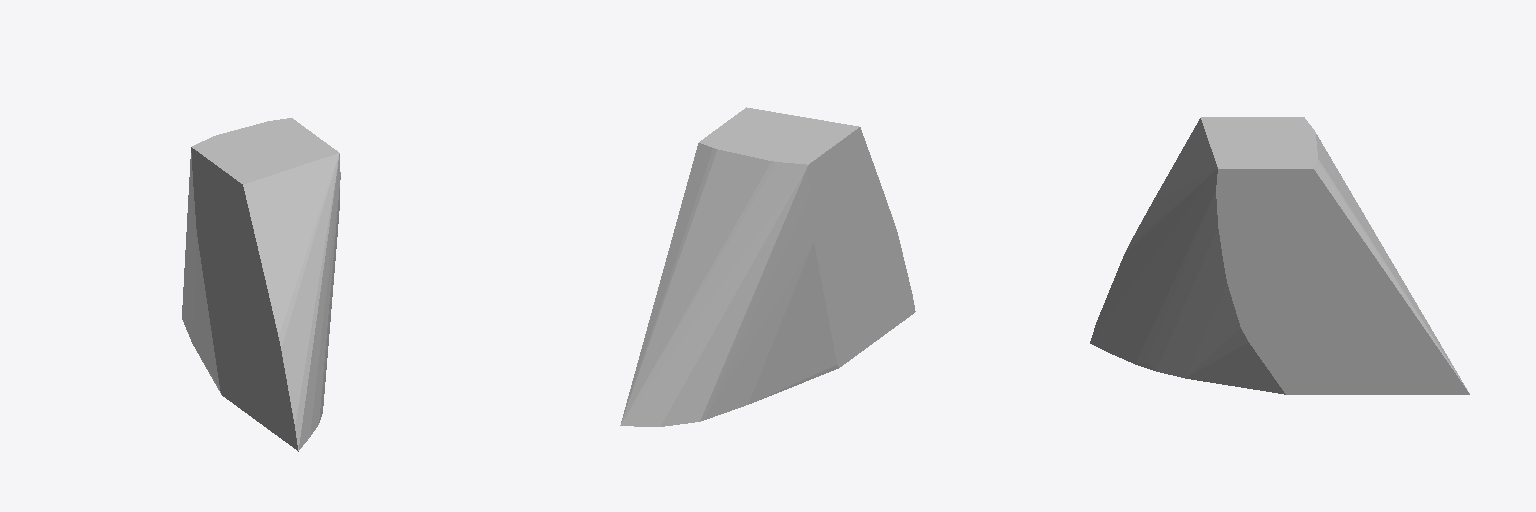
The model's file is phantom-elastrat_collision_167.obj.
3 views of the same model, side by side, from view 1: azimuth 30°, elevation 25°; view 2: azimuth 150°, elevation 25°; view 3: azimuth 270°, elevation 25° (orthographic).
Bounding box in the file's own units: 0.0021 × 0.0043 × 0.0066.